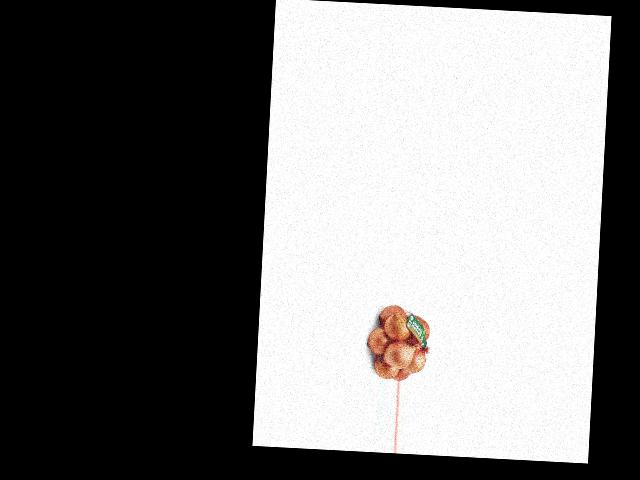onion: (377, 302, 403, 329)
